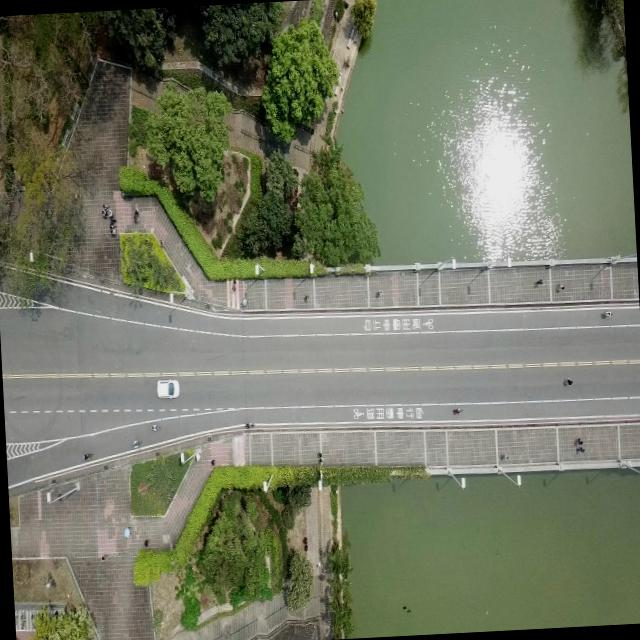bike: (148, 422, 162, 434)
car: (156, 376, 180, 400)
